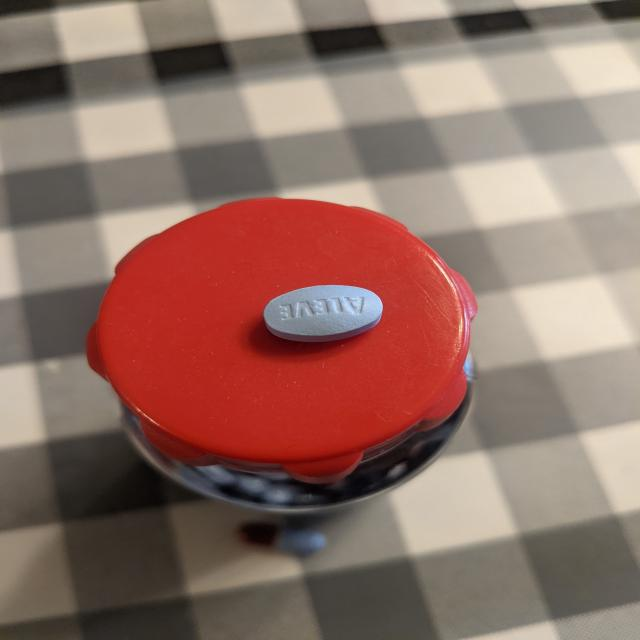non-organic waste: (261, 283, 384, 343)
